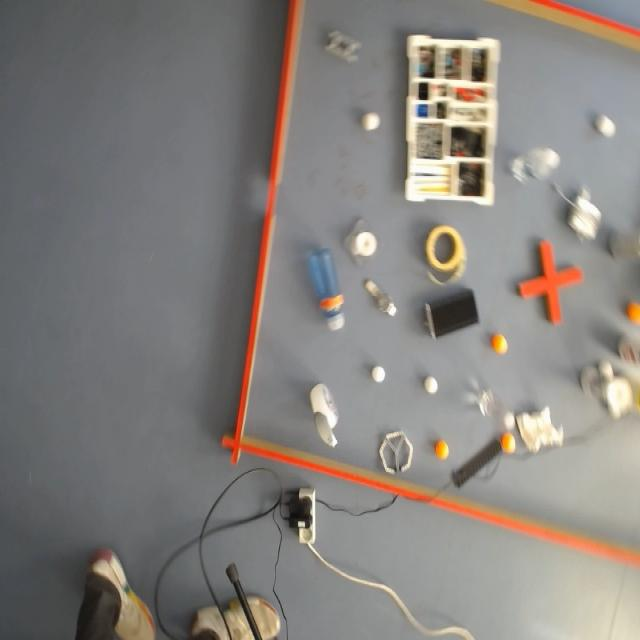orange: (492, 334, 508, 355), (434, 440, 448, 460), (502, 431, 514, 453)
white: (592, 112, 620, 143), (359, 112, 382, 136), (425, 372, 438, 398), (371, 364, 386, 384), (599, 358, 612, 379)
